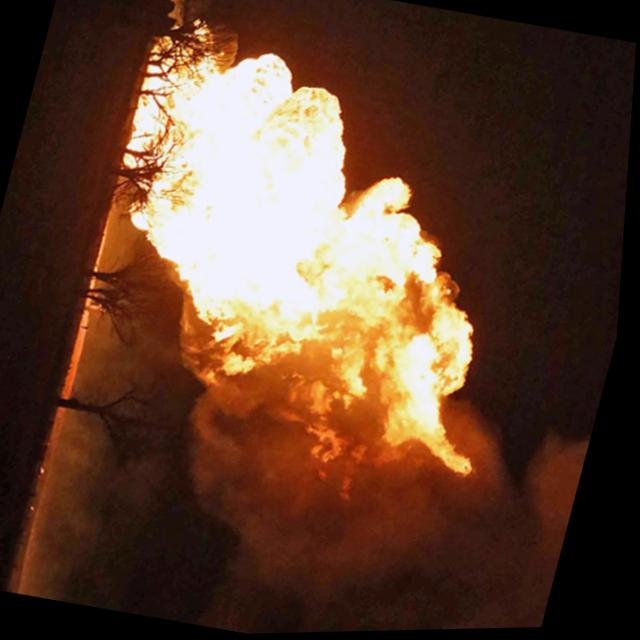Fire: (67, 54, 619, 532)
